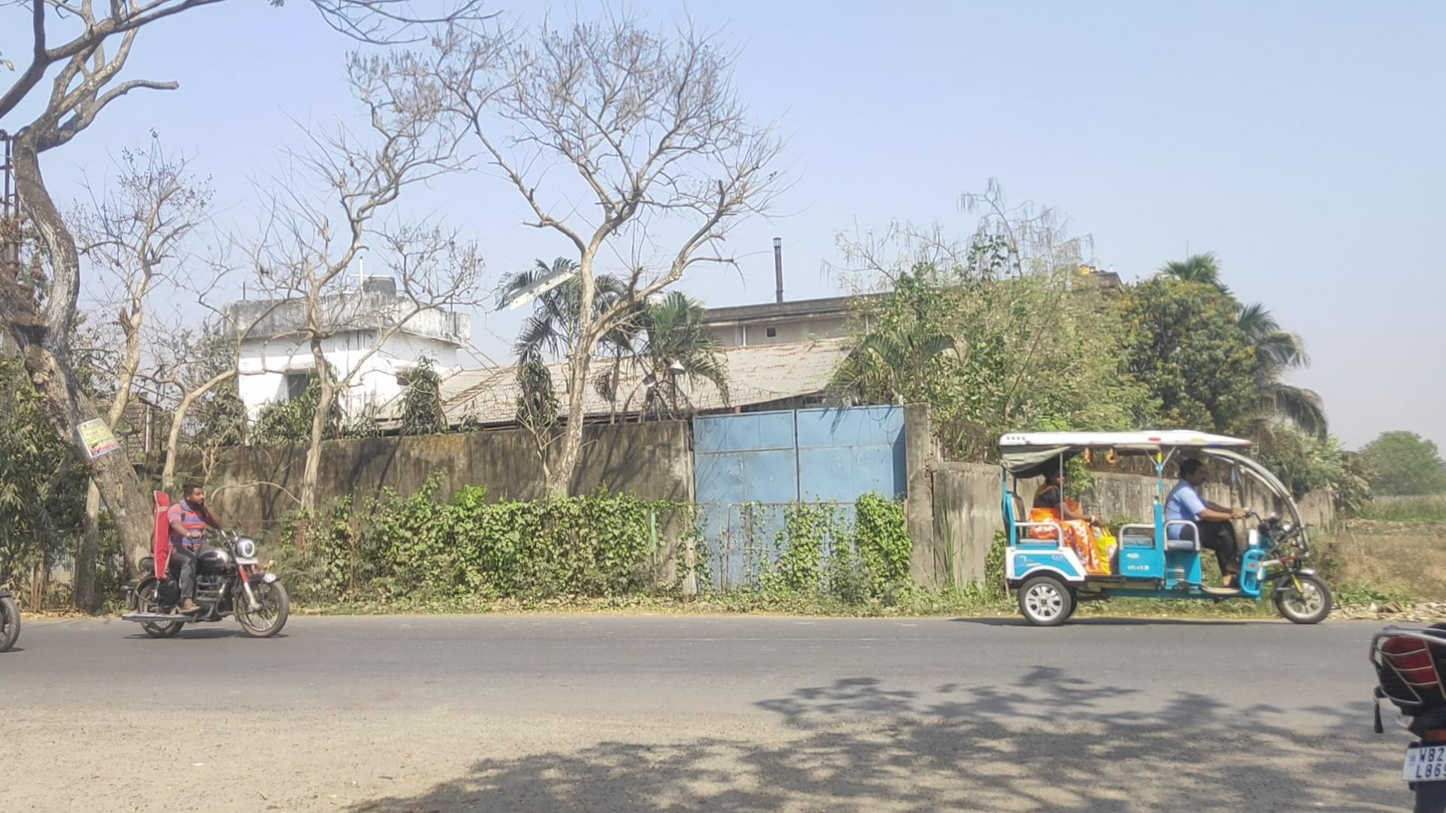Auto: (996, 428, 1332, 627)
bike: (121, 481, 290, 639)
